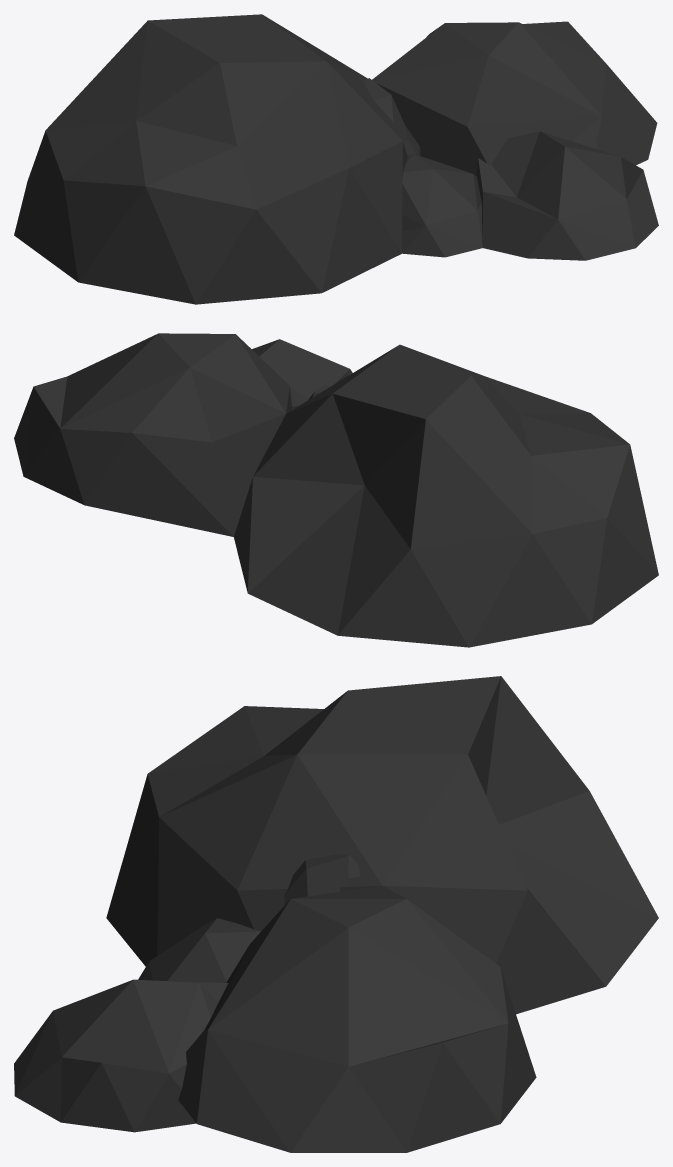
Rendered from rocks2.gltf.
The picture shows the model from 3 angles, top to bottom: view 1: azimuth 30°, elevation 25°; view 2: azimuth 150°, elevation 25°; view 3: azimuth 270°, elevation 25°; orthographic projection. The views are drawn at different scales.
Parts seen in each view (by area): view 1: Icosphere, Cube; view 2: Icosphere; view 3: Icosphere, Cube.
Part boxes in pixels (box(x1,y1,x2,y2)): Icosphere: box(14, 14, 658, 304); Cube: box(363, 78, 421, 156); Icosphere: box(14, 333, 658, 647); Icosphere: box(14, 676, 658, 1152); Cube: box(284, 854, 360, 905).
Size of the model in its own units: 0.1767 by 0.0532 by 0.129.
Materials: 2 (2 with a texture image).
